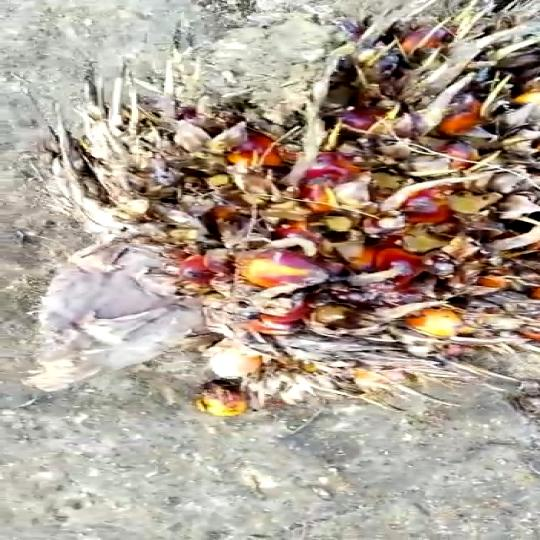terlalu masak: (71, 0, 540, 414)
